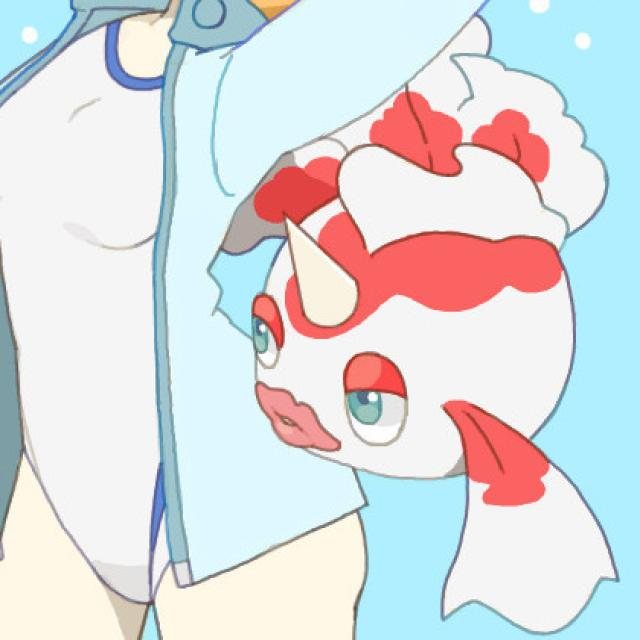Goldeen: (237, 87, 611, 488)
